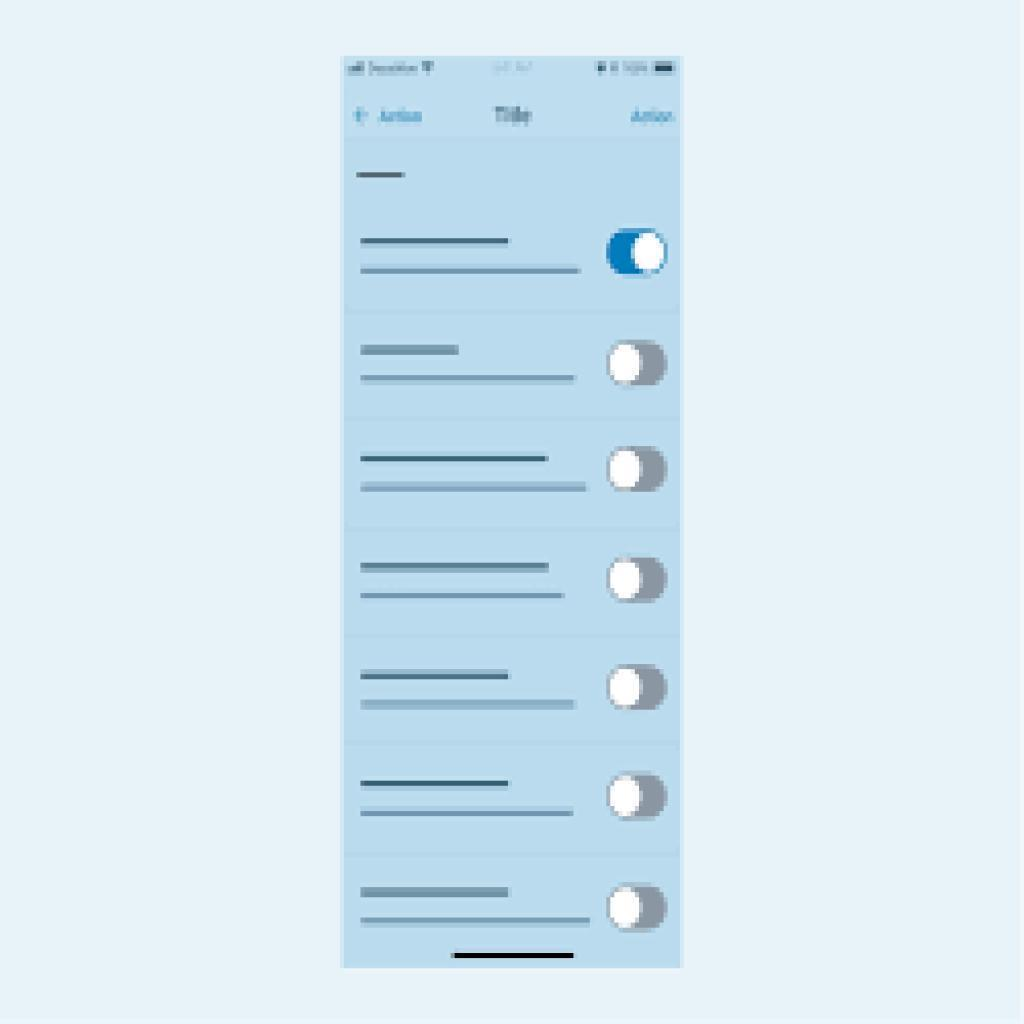switch: (608, 883, 671, 935), (608, 771, 670, 823), (607, 446, 669, 495), (607, 557, 669, 605), (607, 341, 670, 388), (606, 663, 668, 710), (607, 229, 669, 275)
